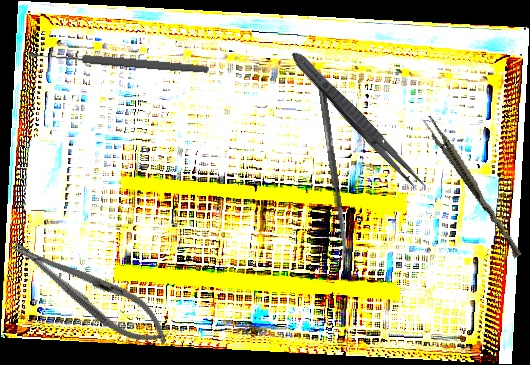Dressing Forceps: (286, 46, 431, 196)
Needle Holder: (1, 224, 180, 359)
Surgical Spoon: (315, 76, 351, 266), (26, 48, 211, 75)
Tissue Forceps: (419, 114, 527, 259)
